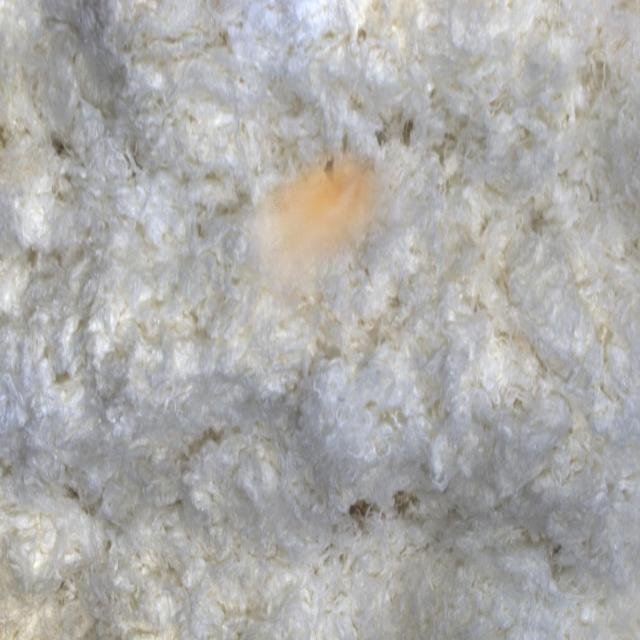dust: (232, 140, 415, 361)
